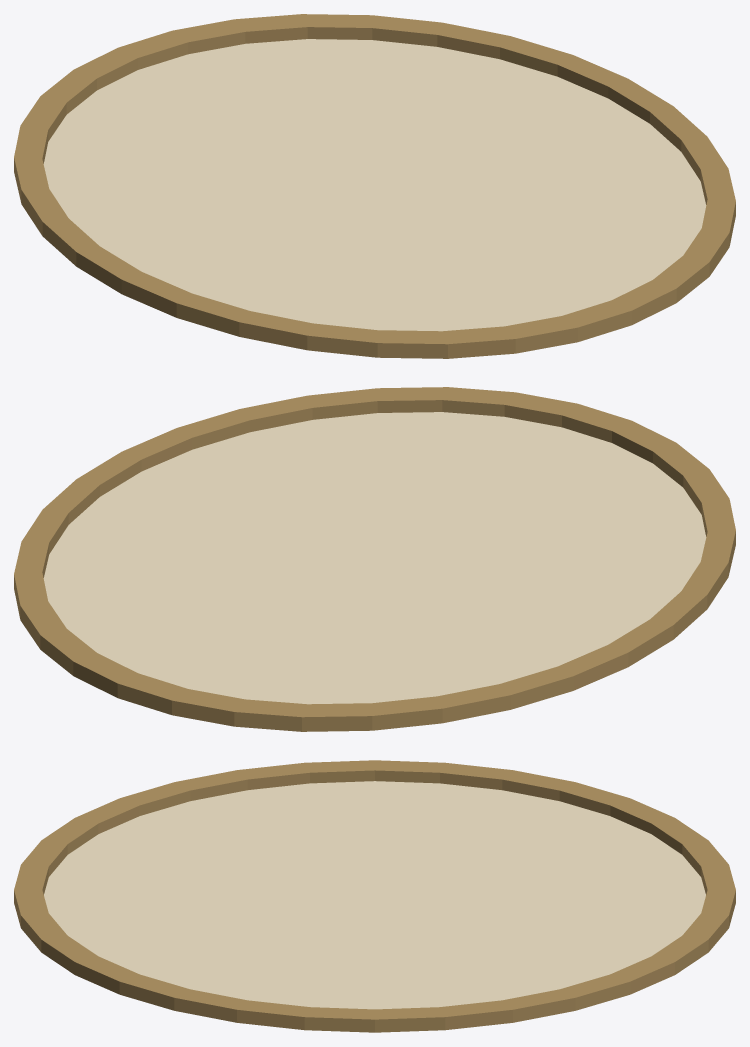
The model's file is Artefato_Dresden.fbx.
3 renders of one model, top to bottom at view 1: azimuth 30°, elevation 25°; view 2: azimuth 150°, elevation 25°; view 3: azimuth 270°, elevation 25°, orthographic. The views are drawn at different scales.
Parts seen in each view (by area): view 1: Dresden_Centro, Dresden_Borda; view 2: Dresden_Centro, Dresden_Borda; view 3: Dresden_Centro, Dresden_Borda.
Part boxes in pixels (x1=…): Dresden_Centro: x1=43, y1=39, x2=706, y2=331; Dresden_Borda: x1=14, y1=14, x2=735, y2=358; Dresden_Centro: x1=43, y1=412, x2=706, y2=704; Dresden_Borda: x1=14, y1=387, x2=735, y2=731; Dresden_Centro: x1=44, y1=781, x2=705, y2=1009; Dresden_Borda: x1=14, y1=760, x2=735, y2=1032.
Bounding box in the file's own units: 170 × 4 × 200.
